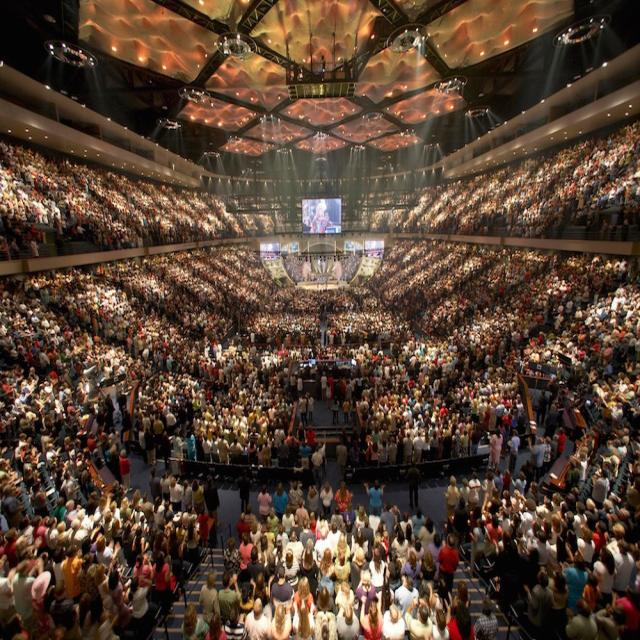body: (0, 110, 639, 554), (0, 551, 177, 639), (497, 553, 640, 640), (493, 528, 523, 639), (256, 553, 427, 572), (523, 571, 555, 639), (48, 578, 81, 639), (436, 532, 459, 614), (26, 570, 53, 639), (14, 515, 34, 608), (123, 575, 152, 639), (12, 558, 37, 632), (82, 592, 120, 639), (562, 553, 589, 619), (62, 544, 84, 624), (426, 554, 461, 604), (152, 550, 175, 626), (547, 568, 570, 640), (163, 529, 187, 598), (592, 547, 616, 608), (443, 596, 475, 640), (356, 569, 377, 636), (517, 537, 540, 597), (565, 596, 597, 639), (269, 564, 293, 620), (291, 575, 312, 639), (298, 546, 320, 607), (614, 587, 639, 640), (334, 532, 355, 593), (359, 591, 385, 639), (217, 572, 241, 624), (243, 596, 271, 640), (100, 561, 130, 602), (594, 602, 627, 639), (612, 539, 635, 592), (198, 568, 219, 626), (334, 549, 352, 616), (472, 595, 498, 639), (403, 600, 432, 639), (290, 596, 316, 639), (179, 602, 208, 640), (78, 550, 100, 600), (452, 579, 470, 640), (238, 531, 256, 592), (52, 546, 70, 602), (362, 478, 386, 519), (390, 528, 410, 576), (298, 438, 314, 498), (311, 607, 340, 639), (314, 525, 335, 569), (386, 550, 403, 604), (108, 518, 125, 572), (2, 483, 26, 521), (528, 436, 546, 486), (419, 548, 437, 598), (222, 537, 242, 582), (234, 469, 253, 516), (281, 548, 300, 594), (336, 603, 360, 639), (349, 546, 367, 594), (582, 574, 603, 615), (270, 603, 293, 640), (203, 476, 220, 526), (368, 546, 386, 593), (223, 605, 247, 640), (380, 603, 403, 639), (31, 514, 50, 557), (405, 460, 421, 510), (120, 520, 136, 570), (284, 529, 306, 565), (61, 470, 80, 511), (443, 473, 461, 516), (272, 481, 290, 524), (488, 428, 504, 476), (319, 481, 334, 531), (132, 554, 154, 588), (403, 550, 422, 589), (230, 436, 244, 488), (2, 527, 18, 571), (334, 480, 353, 517), (204, 610, 228, 639), (286, 436, 300, 485), (166, 475, 184, 513), (315, 585, 337, 616), (520, 458, 534, 506), (507, 428, 521, 476), (427, 610, 450, 639), (246, 545, 264, 582), (253, 571, 270, 610), (256, 484, 272, 525), (16, 535, 42, 560), (119, 448, 133, 494), (466, 471, 482, 511), (417, 516, 437, 548), (380, 500, 396, 540), (96, 423, 109, 472), (563, 458, 579, 496), (190, 478, 205, 518), (335, 437, 348, 483), (288, 480, 304, 517), (108, 444, 122, 486), (165, 407, 177, 455), (95, 534, 113, 566), (44, 515, 60, 551), (144, 424, 157, 467), (482, 471, 497, 508), (318, 546, 335, 578), (240, 580, 255, 616), (0, 510, 10, 564), (152, 413, 165, 454), (544, 403, 558, 441), (334, 582, 354, 608), (400, 572, 420, 598), (114, 388, 128, 425), (160, 430, 172, 473), (595, 466, 611, 498), (509, 470, 527, 498), (536, 388, 549, 426), (307, 484, 320, 522), (119, 406, 132, 444), (498, 467, 513, 499), (317, 429, 327, 476), (412, 505, 426, 538), (172, 427, 186, 460), (264, 551, 278, 584), (137, 424, 148, 465), (399, 510, 414, 540), (369, 441, 379, 486), (159, 470, 173, 502), (133, 526, 149, 554), (52, 496, 66, 528), (217, 432, 230, 466), (272, 539, 286, 570), (412, 428, 424, 464), (542, 435, 552, 478), (278, 436, 288, 479), (185, 430, 198, 463), (63, 499, 76, 532), (254, 442, 263, 489), (150, 466, 161, 504), (402, 429, 413, 465), (347, 373, 356, 417), (298, 394, 309, 429), (438, 428, 446, 476), (500, 422, 510, 460), (361, 384, 370, 426), (470, 424, 481, 458), (105, 392, 116, 426), (362, 442, 372, 479), (270, 439, 279, 480), (348, 439, 360, 469), (460, 477, 471, 508), (180, 479, 192, 507), (201, 434, 212, 464), (421, 431, 431, 463), (459, 430, 470, 459), (108, 426, 120, 452), (388, 435, 398, 466), (496, 398, 506, 429), (380, 437, 390, 468), (378, 439, 389, 467), (557, 426, 566, 460), (550, 433, 559, 466), (306, 389, 315, 422), (260, 439, 270, 468), (493, 468, 502, 500), (395, 433, 404, 465), (81, 470, 90, 502), (404, 522, 415, 548), (557, 394, 565, 429), (288, 370, 298, 398), (516, 407, 526, 435), (514, 392, 524, 420), (86, 430, 98, 453), (330, 394, 339, 424), (311, 444, 323, 466), (321, 371, 329, 402), (417, 367, 425, 398), (327, 372, 336, 398), (402, 406, 413, 427), (371, 421, 381, 444), (477, 398, 486, 423), (141, 411, 151, 433), (501, 406, 511, 428), (422, 409, 432, 431), (31, 481, 43, 499), (469, 400, 478, 424), (342, 398, 350, 424), (439, 402, 449, 422), (345, 378, 353, 402), (412, 413, 424, 429), (359, 395, 370, 412), (433, 429, 439, 460), (349, 376, 356, 402), (489, 399, 499, 417), (457, 416, 466, 435), (356, 374, 362, 402), (296, 374, 302, 401), (434, 376, 440, 402), (454, 428, 462, 447), (56, 521, 68, 533), (246, 439, 256, 453), (428, 380, 435, 400), (211, 434, 218, 453), (363, 340, 369, 362), (402, 347, 406, 365), (401, 364, 406, 378)
